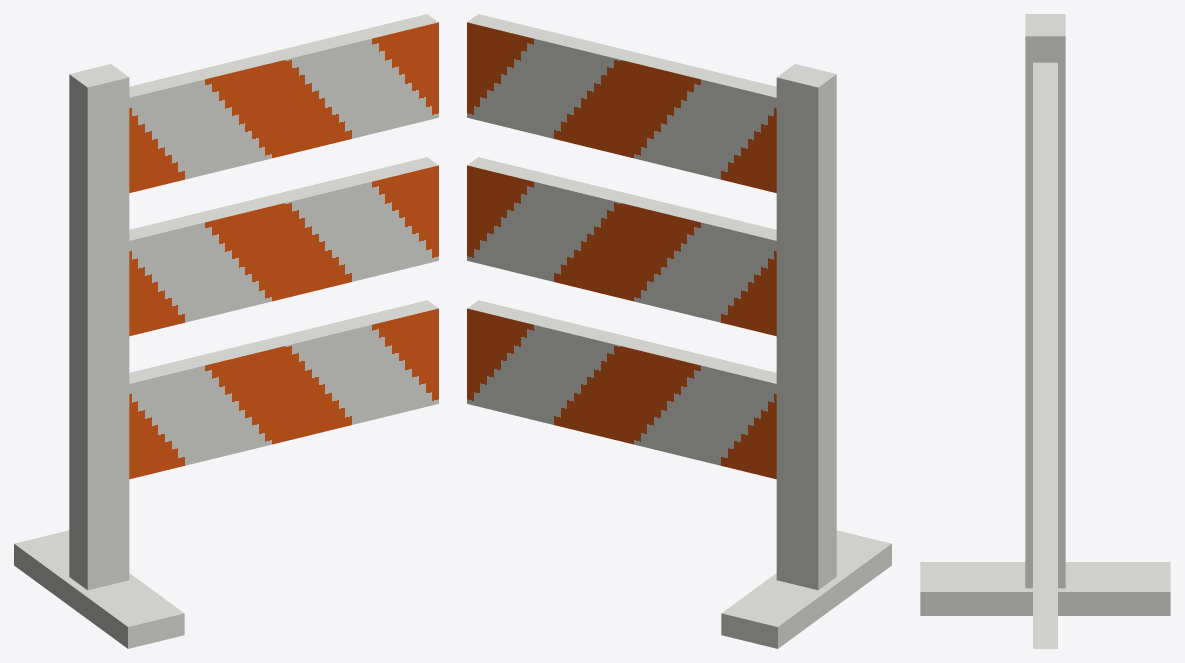
Rendered from workzone_barricade_type3_core.obj.
3 renders of one model, left to right at view 1: azimuth 30°, elevation 25°; view 2: azimuth 150°, elevation 25°; view 3: azimuth 270°, elevation 25°, orthographic. The views are drawn at different scales.
Visible parts, largest first — view 1: workzone_barricade_type3_core; view 2: workzone_barricade_type3_core; view 3: workzone_barricade_type3_core.
Boxes of the visible parts, bbox=[...] form: workzone_barricade_type3_core: bbox=[14, 14, 438, 648]; workzone_barricade_type3_core: bbox=[467, 14, 891, 648]; workzone_barricade_type3_core: bbox=[920, 14, 1170, 648].
Bounding box in the file's own units: 1.08 × 1.5 × 0.5915.
